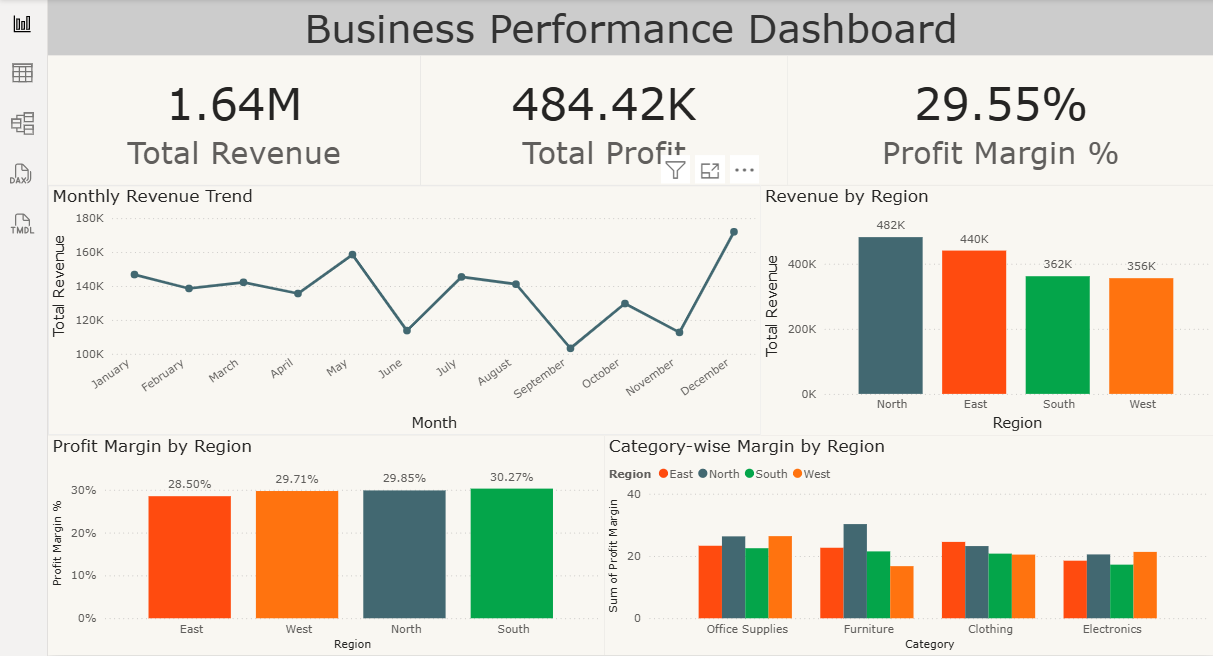

Layout of this report page (visuals, bound fields, positions):
{"tool":"powerbi","page":{"name":"Page 1","canvas":[1280,720],"ordinal":0},"visuals":[{"type":"card","fields":{"Values":["Data_Set.Total Revenue"]},"box":[0,61.7,408.9,142.7],"z":0},{"type":"card","fields":{"Values":["Data_Set.Total Profit"]},"box":[408.9,61.7,403.4,142.7],"z":1000},{"type":"card","fields":{"Values":["Data_Set.Profit Margin %"]},"box":[812.4,61.7,467.9,142.7],"z":2000},{"type":"textbox","box":[0,0,1280.3,61.7],"z":3000},{"type":"lineChart","title":"Monthly Revenue Trend","fields":{"Category":["Data_Set.Order_Date.Variation.Date Hierarchy.Month"],"Y":["Data_Set.Total Revenue"]},"box":[0,204.5,782.2,274.4],"z":4000},{"type":"clusteredColumnChart","title":"Profit Margin by Region","fields":{"Category":["Data_Set.Region"],"Y":["Data_Set.Profit Margin %"]},"box":[0,478.9,610.6,241.5],"z":5000},{"type":"clusteredColumnChart","title":"Category-wise Margin by Region","fields":{"Category":["Data_Set.Category"],"Y":["Sum(Data_Set.Profit Margin)"],"Series":["Data_Set.Region"]},"box":[610.6,478.9,669.6,241.5],"z":6000},{"type":"clusteredColumnChart","title":"Revenue by Region","fields":{"Category":["Data_Set.Region"],"Y":["Data_Set.Total Revenue"]},"box":[782.2,204.5,498.1,274.4],"z":7000}]}

Visuals, with their boxes on the page's 1280x720 design canvas (x1, y1, x2, y2). These are canvas units, not pixel positions in the 1213x656 screenshot, which may show the page scaled, cropped or inside an application window:
card - Data_Set.Total Revenue: {"x1": 0, "y1": 62, "x2": 409, "y2": 204}
card - Data_Set.Total Profit: {"x1": 409, "y1": 62, "x2": 812, "y2": 204}
card - Data_Set.Profit Margin %: {"x1": 812, "y1": 62, "x2": 1280, "y2": 204}
textbox: {"x1": 0, "y1": 0, "x2": 1280, "y2": 62}
"Monthly Revenue Trend" lineChart: {"x1": 0, "y1": 204, "x2": 782, "y2": 479}
"Profit Margin by Region" clusteredColumnChart: {"x1": 0, "y1": 479, "x2": 611, "y2": 720}
"Category-wise Margin by Region" clusteredColumnChart: {"x1": 611, "y1": 479, "x2": 1280, "y2": 720}
"Revenue by Region" clusteredColumnChart: {"x1": 782, "y1": 204, "x2": 1280, "y2": 479}
